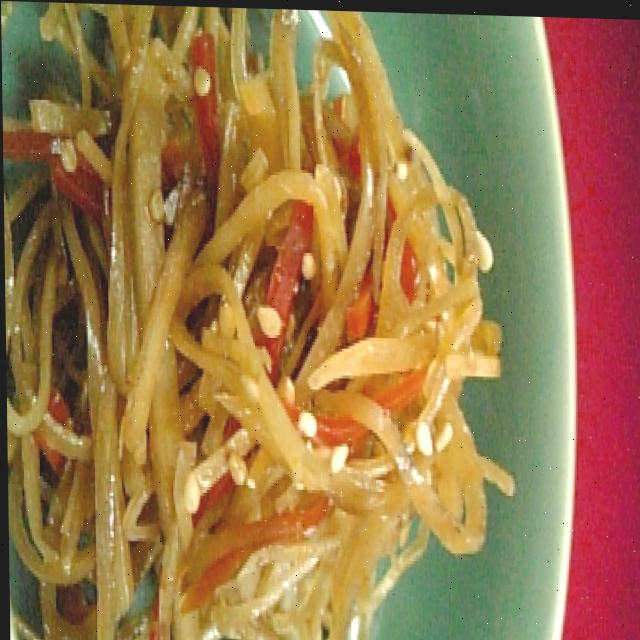蔬菜料理: (229, 85, 640, 640)
